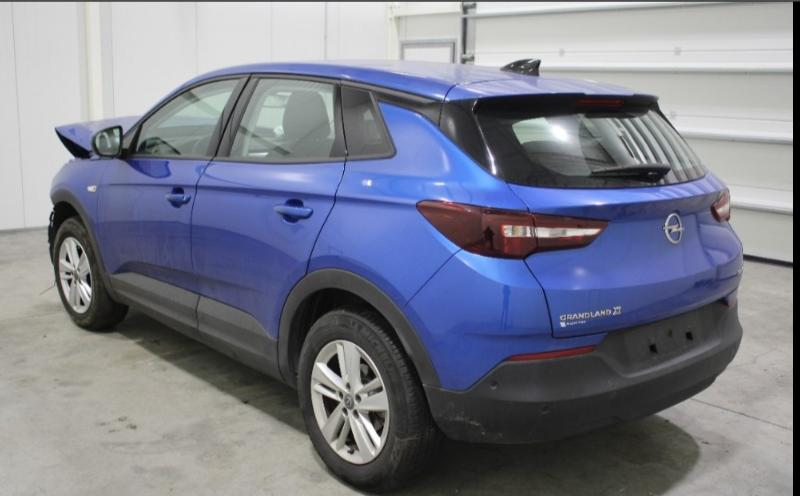Back-bumper: (422, 287, 744, 445)
Back-door: (191, 73, 346, 340)
Back-wheel: (296, 307, 428, 488)
Back-window: (229, 78, 344, 161), (342, 86, 395, 160)
Back-windshield: (475, 97, 707, 189)
Fender: (50, 157, 113, 295)
Front-door: (97, 75, 250, 293)
Front-wheel: (53, 218, 129, 327)
Front-window: (133, 79, 239, 154)
Hood: (53, 115, 141, 159)
Mirror: (91, 127, 126, 158)
Quarter-panel: (277, 161, 558, 391)
Rocker-panel: (109, 273, 285, 382)
Roof: (187, 60, 634, 100)
Tail-light: (418, 201, 607, 261), (710, 186, 734, 227)
Trunk: (508, 168, 743, 339), (441, 80, 660, 180)
